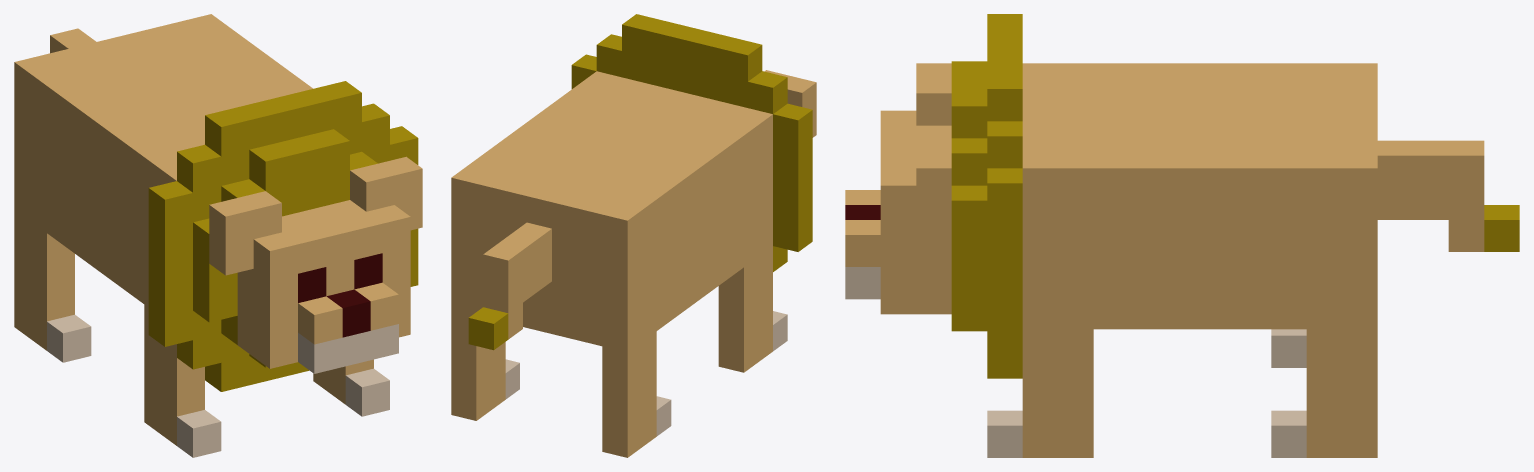
File: lion.glb
3 renders of one model, left to right at view 1: azimuth 30°, elevation 25°; view 2: azimuth 150°, elevation 25°; view 3: azimuth 270°, elevation 25°, orthographic. The views are drawn at different scales.
Parts seen in each view (by area): view 1: Geode; view 2: Geode; view 3: Geode.
Part boxes in pixels (box(x1,y1,x2,y2)): Geode: box(14, 14, 422, 457); Geode: box(451, 14, 816, 457); Geode: box(845, 14, 1519, 457).
Bounding box in the file's own units: 0.9 × 1.1 × 1.9.
